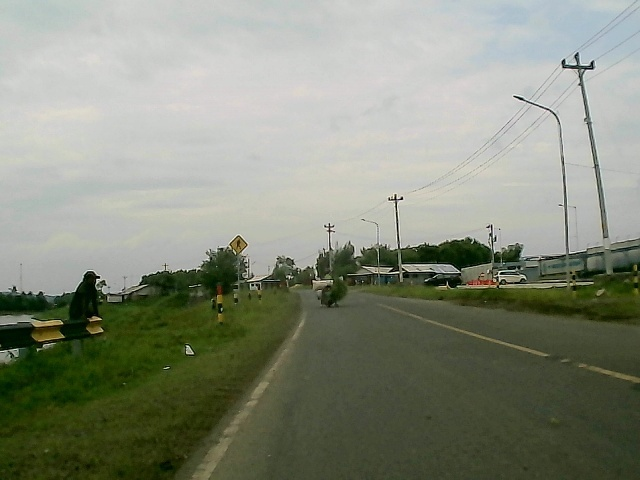Peringatan orang menyeberang: (224, 234, 250, 256)
